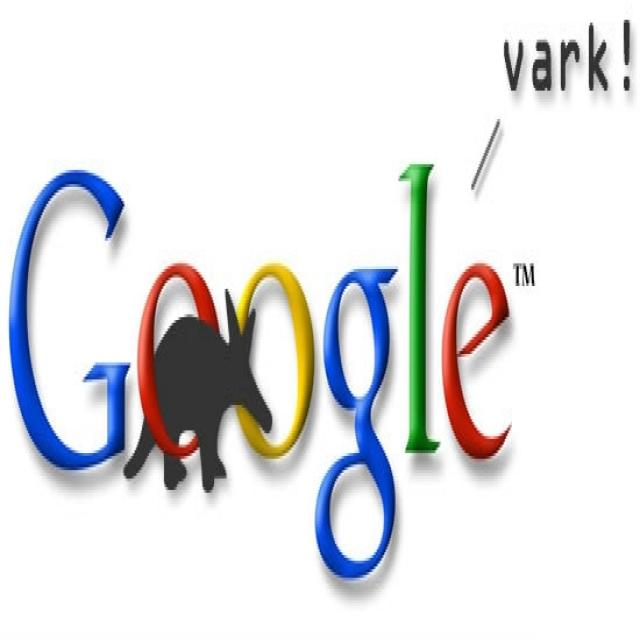google: (2, 123, 525, 596)
